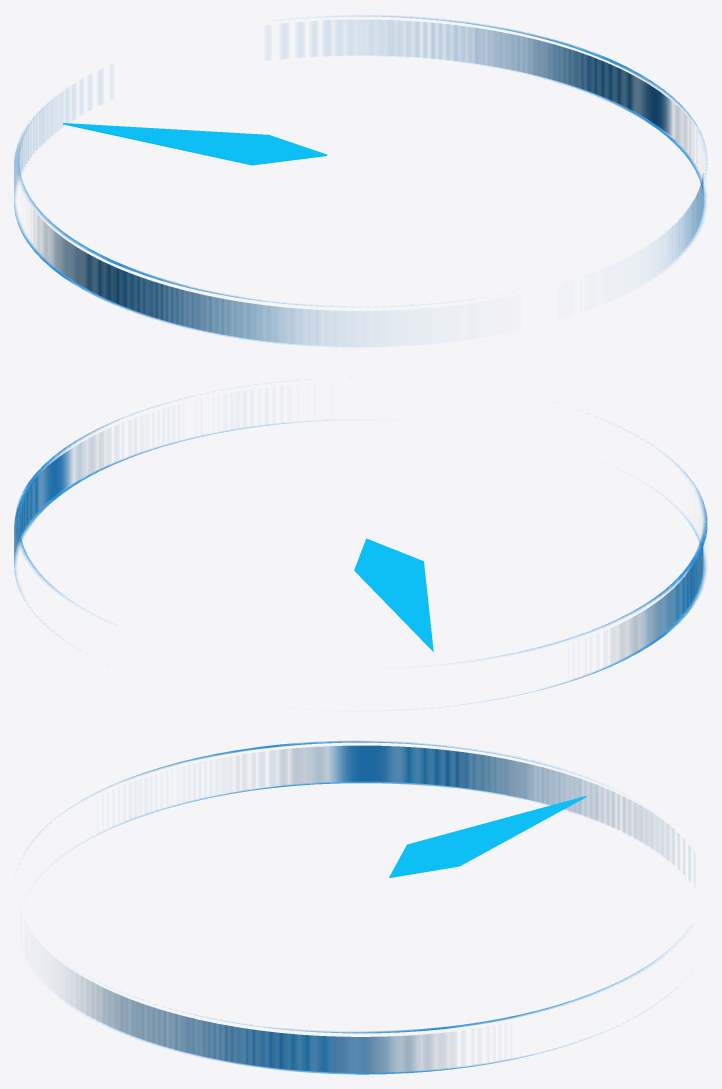
Rendered from dipan2.glb.
3 renders of one model, top to bottom at view 1: azimuth 30°, elevation 25°; view 2: azimuth 150°, elevation 25°; view 3: azimuth 270°, elevation 25°, orthographic.
Parts seen in each view (by area): view 1: 圆盘_2, 指针; view 2: 圆盘_2, 指针; view 3: 圆盘_2, 指针.
Part boxes in pixels (x1,y1,x2,y2): 圆盘_2: (14,15,707,345); 指针: (63,123,327,165); 圆盘_2: (14,399,707,704); 指针: (354,538,433,651); 圆盘_2: (50,741,670,1074); 指针: (389,796,586,877).
Size of what is drawn, in the model's own units: 85.79 by 5.69 by 85.79.
Materials: 2 (1 with a texture image).
